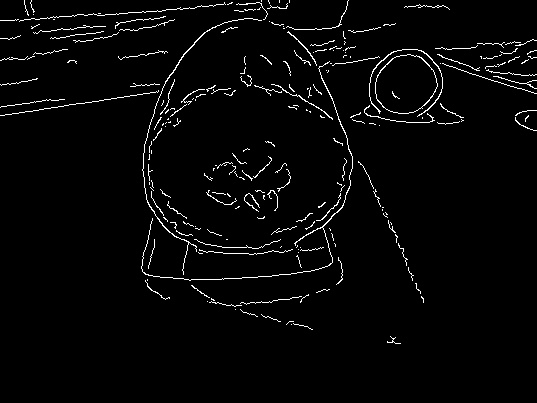cucumber: (140, 13, 354, 256)
